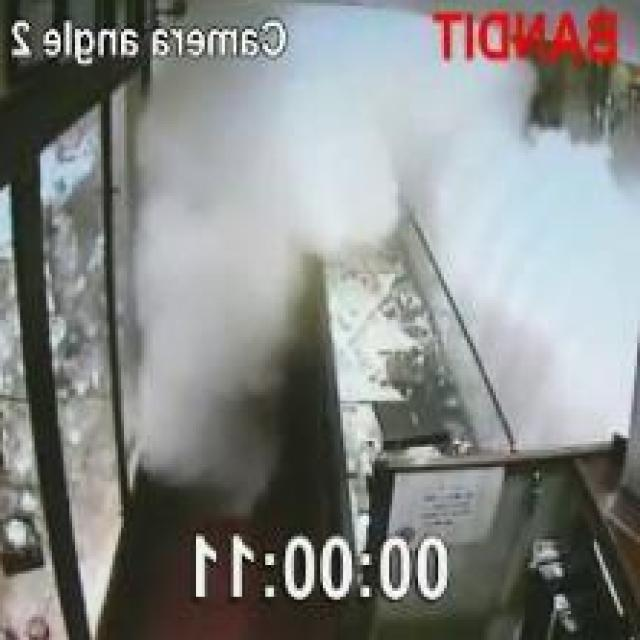fire: (128, 41, 313, 518), (240, 2, 534, 250), (421, 127, 640, 450)
